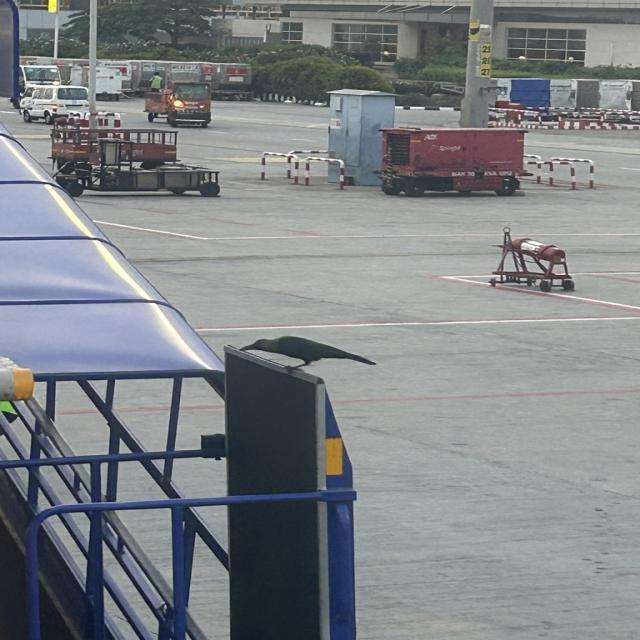bird: (233, 334, 382, 378)
